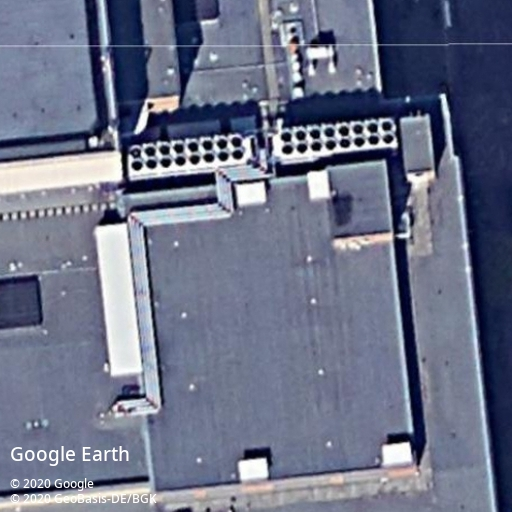Chiller: (273, 114, 400, 165), (125, 131, 251, 179)
